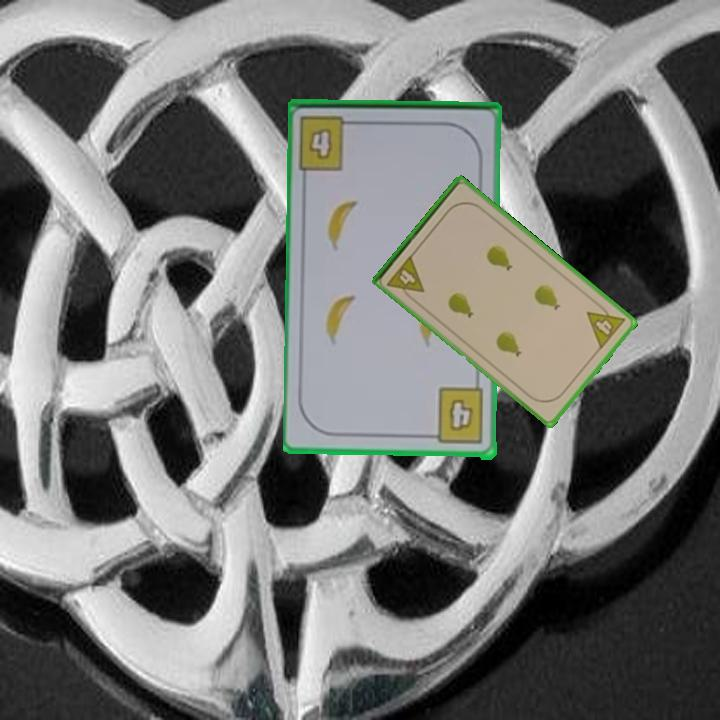4b: (424, 386, 487, 447), (305, 125, 336, 164)
4p: (583, 298, 628, 352), (383, 251, 427, 304)
